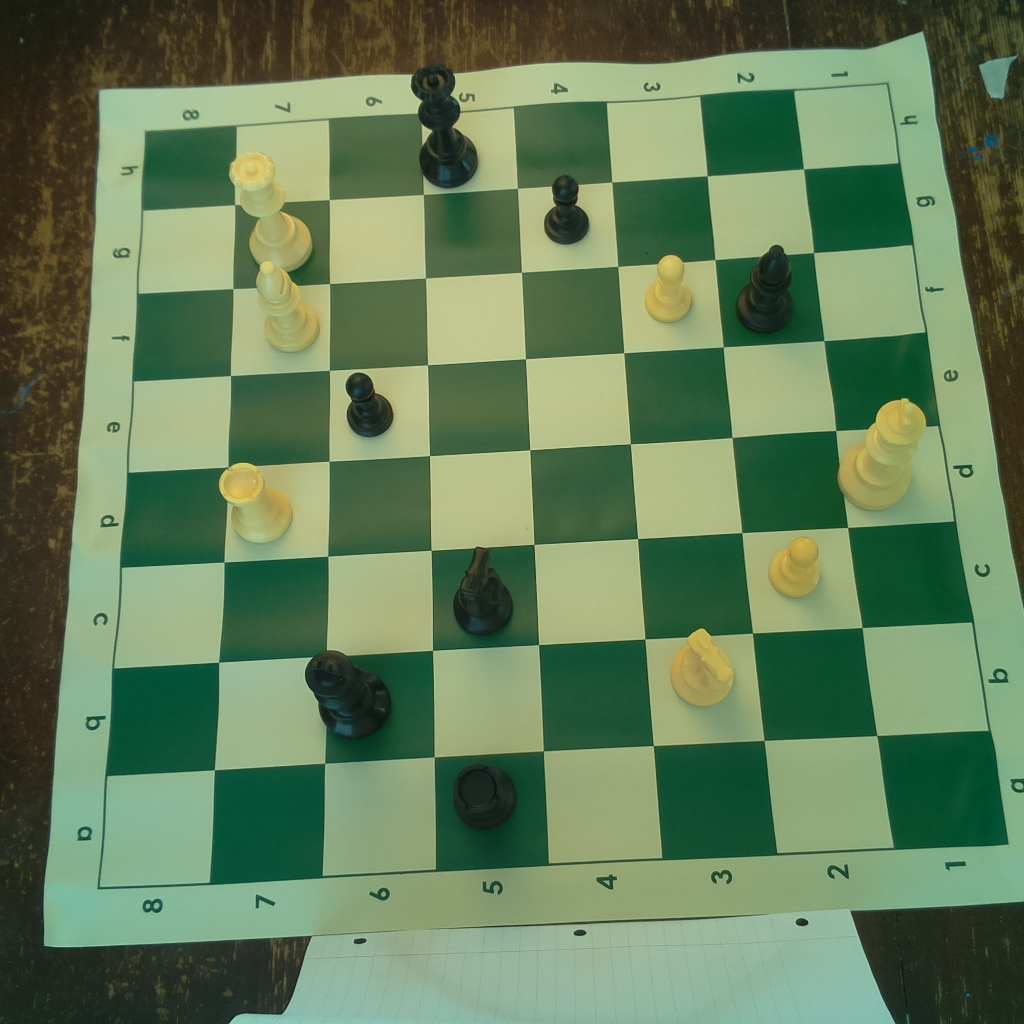black_bishop: (733, 241, 802, 339)
black_king: (302, 647, 396, 743)
black_knight: (444, 545, 519, 640)
black_pawn: (342, 370, 397, 440), (541, 173, 594, 244)
black_queen: (408, 61, 483, 191)
black_rook: (445, 760, 524, 832)
file_a: (96, 731, 1011, 896)
file_b: (105, 623, 993, 778)
file_c: (108, 522, 979, 666)
file_d: (118, 427, 957, 569)
file_e: (127, 332, 938, 473)
file_f: (132, 244, 929, 384)
file_g: (137, 160, 915, 295)
file_h: (140, 83, 899, 215)
outline: (97, 82, 1011, 893)
rank_1: (794, 79, 1011, 851)
rank_2: (699, 90, 894, 856)
rank_3: (606, 93, 779, 864)
rank_4: (515, 99, 662, 865)
rank_5: (423, 104, 551, 874)
rank_6: (319, 113, 442, 878)
rank_7: (210, 118, 325, 890)
rank_8: (97, 125, 224, 893)
white_bishop: (247, 260, 324, 352)
white_king: (837, 392, 931, 518)
white_knight: (663, 623, 740, 712)
white_pawn: (641, 245, 697, 326), (767, 531, 828, 601)
white_queen: (229, 151, 315, 271)
white_rook: (215, 456, 298, 543)
